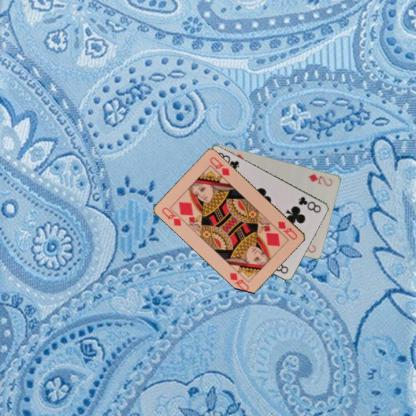2d: (306, 171, 334, 187)
8c: (296, 193, 322, 214)
Qd: (159, 204, 188, 228), (276, 218, 298, 241)
